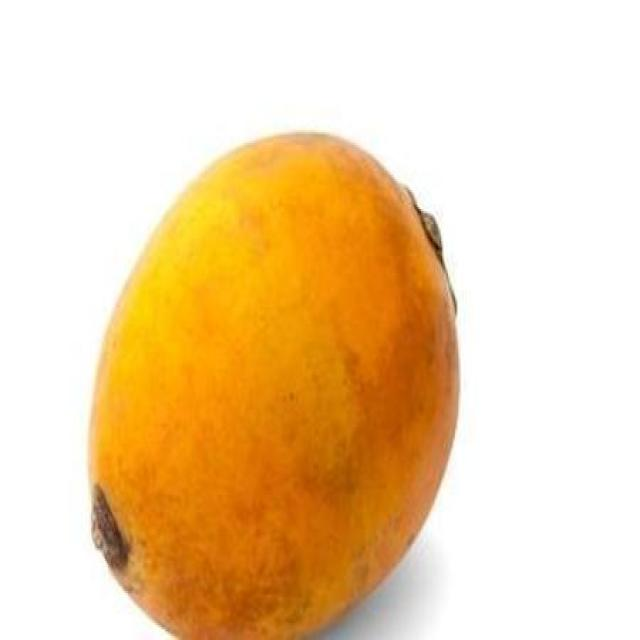good: (87, 134, 461, 638)
